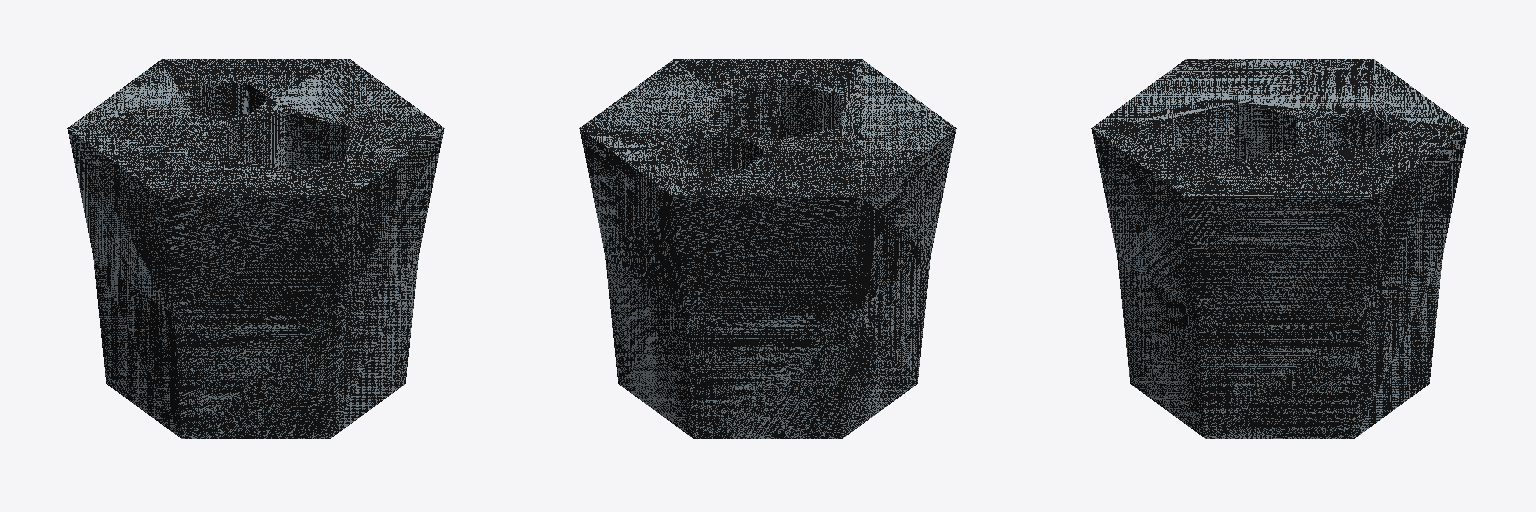
Rendered from Stopper_Holed.obj.
The picture shows the model from 3 angles: view 1: azimuth 30°, elevation 25°; view 2: azimuth 150°, elevation 25°; view 3: azimuth 270°, elevation 25°; orthographic projection.
Visible parts, largest first — view 1: Mesh1 Model; view 2: Mesh1 Model; view 3: Mesh1 Model.
Part boxes in pixels (x1,y1,x2,y2): Mesh1 Model: (67, 59, 444, 438); Mesh1 Model: (579, 59, 956, 438); Mesh1 Model: (1091, 59, 1468, 438).
Size of the model in its own units: 0.0232 by 0.02 by 0.0267.